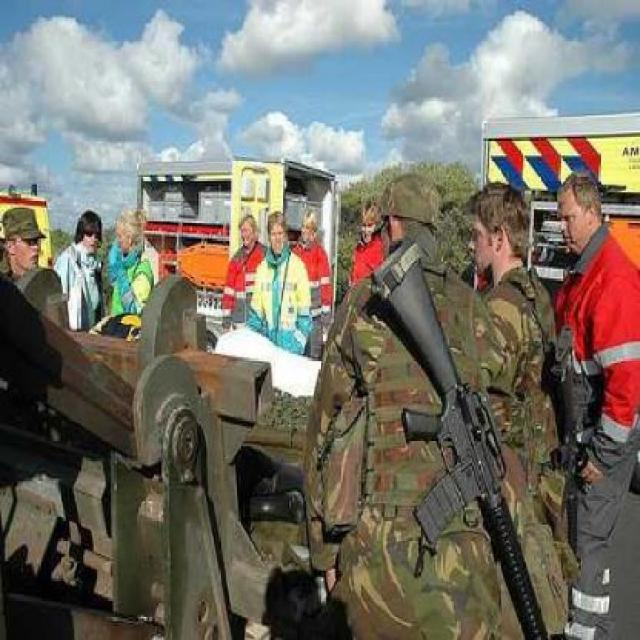weapon: (370, 245, 552, 640)
